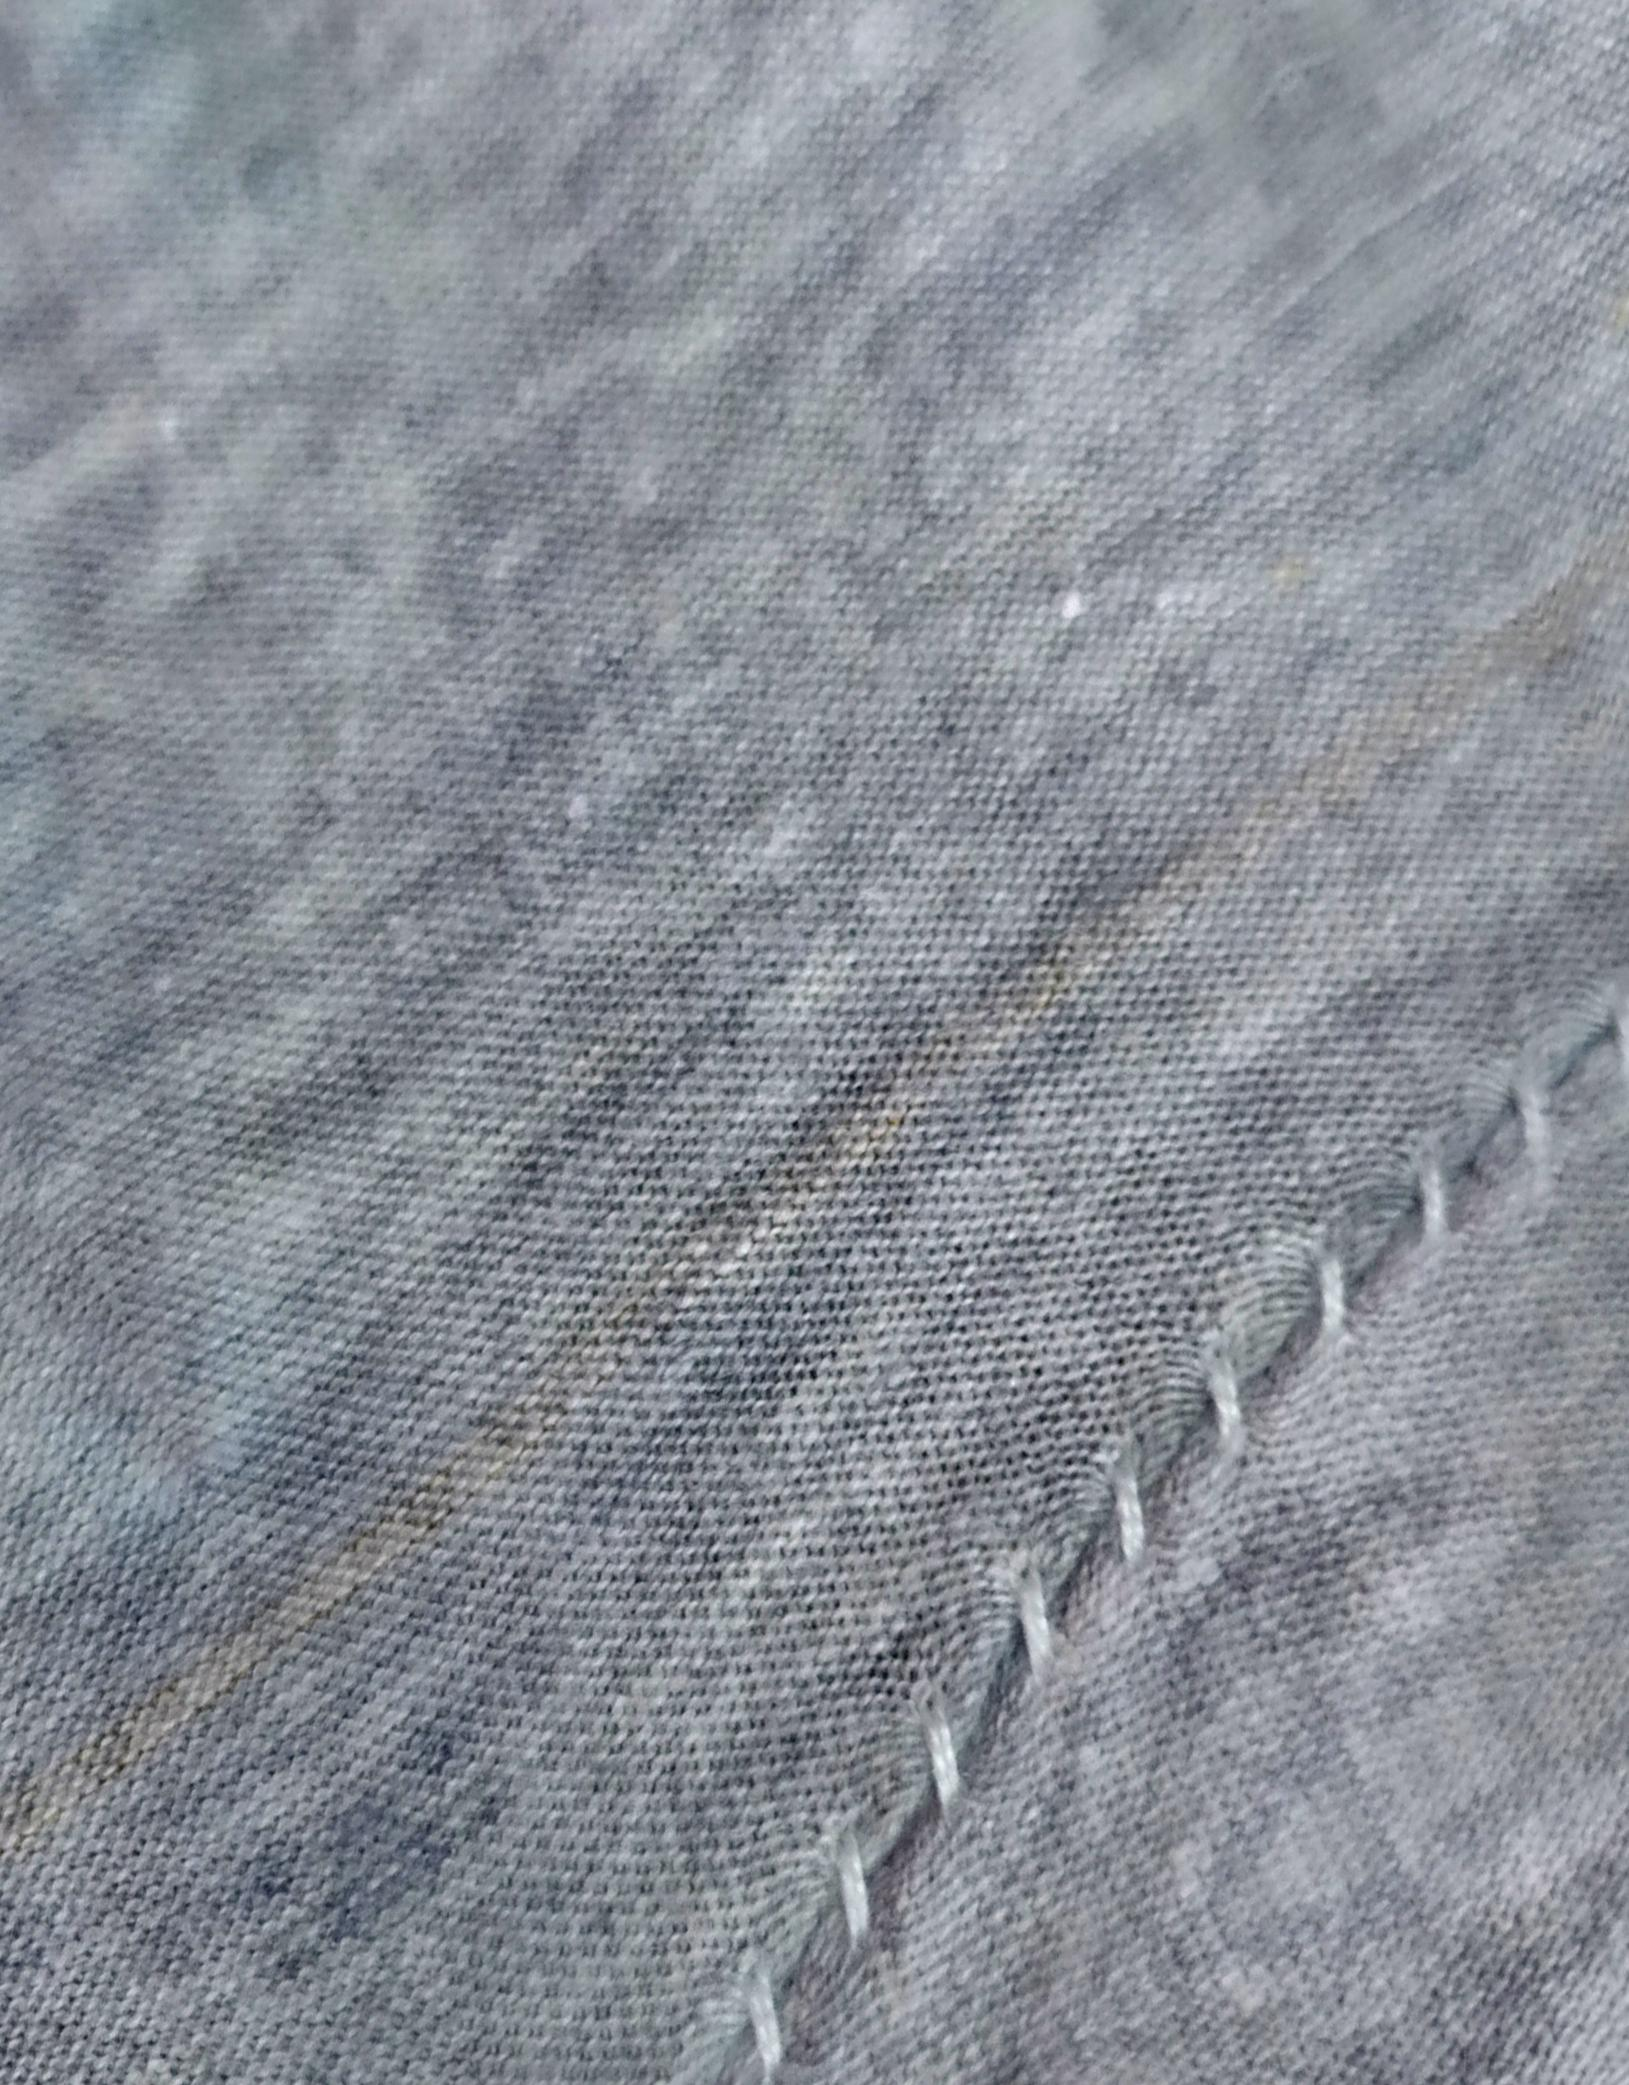slub: (709, 982, 1624, 2078)
